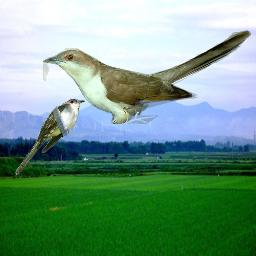Cuckoo: (43, 29, 251, 124), (14, 98, 85, 177)
